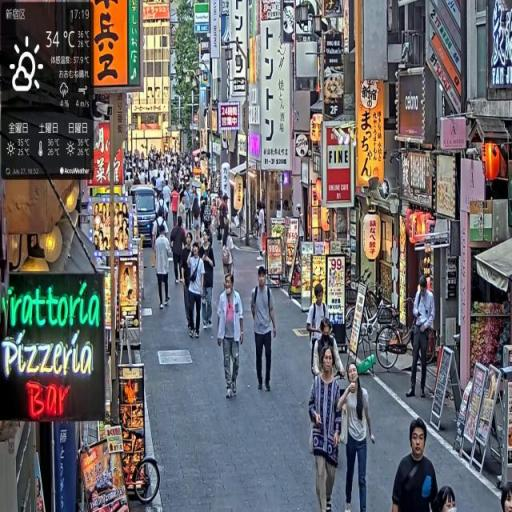person: (308, 343, 348, 512), (335, 360, 379, 512), (392, 416, 438, 512), (407, 274, 437, 401), (217, 271, 245, 401), (251, 265, 279, 395), (307, 284, 330, 376), (185, 242, 206, 342), (199, 227, 218, 332), (315, 318, 344, 379), (154, 223, 174, 311), (171, 217, 188, 288)
